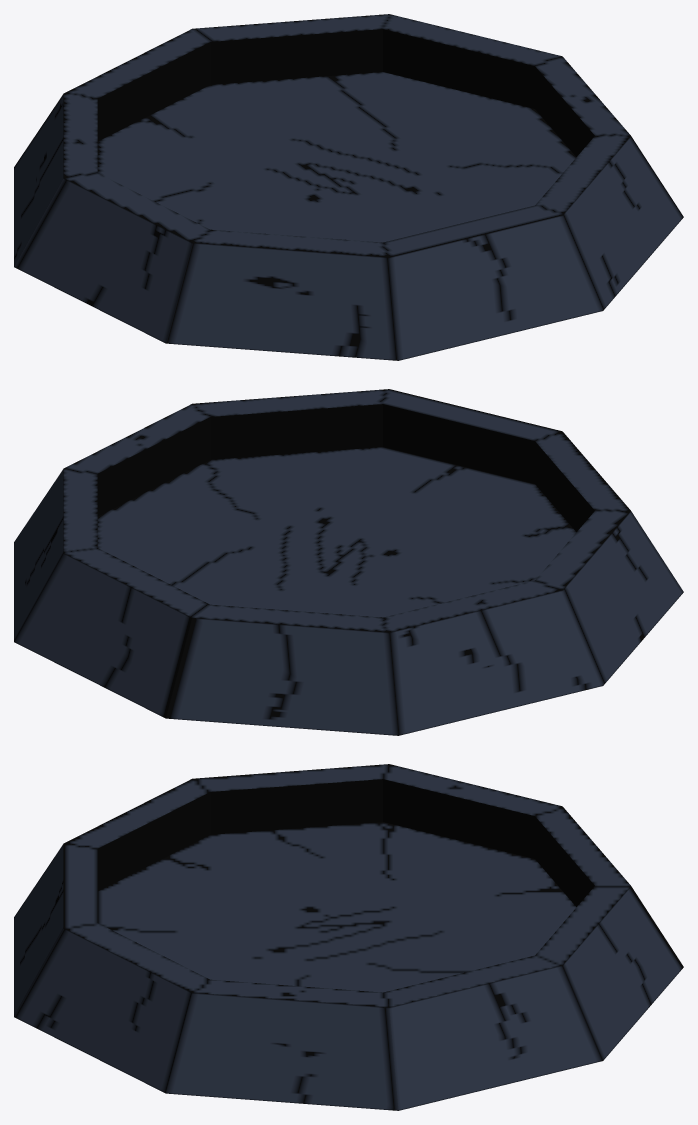
Rendered from DeathPlatformSLOT.obj.
The picture shows the model from 3 angles, top to bottom: view 1: azimuth 30°, elevation 25°; view 2: azimuth 150°, elevation 25°; view 3: azimuth 270°, elevation 25°; orthographic projection.
Visible parts, largest first — view 1: platformslot; view 2: platformslot; view 3: platformslot.
Part boxes in pixels (x1,y1,x2,y2): platformslot: (14,14,683,360); platformslot: (14,389,683,735); platformslot: (14,764,683,1110).
Size of the model in its own units: 1.97 by 0.2599 by 1.94.
